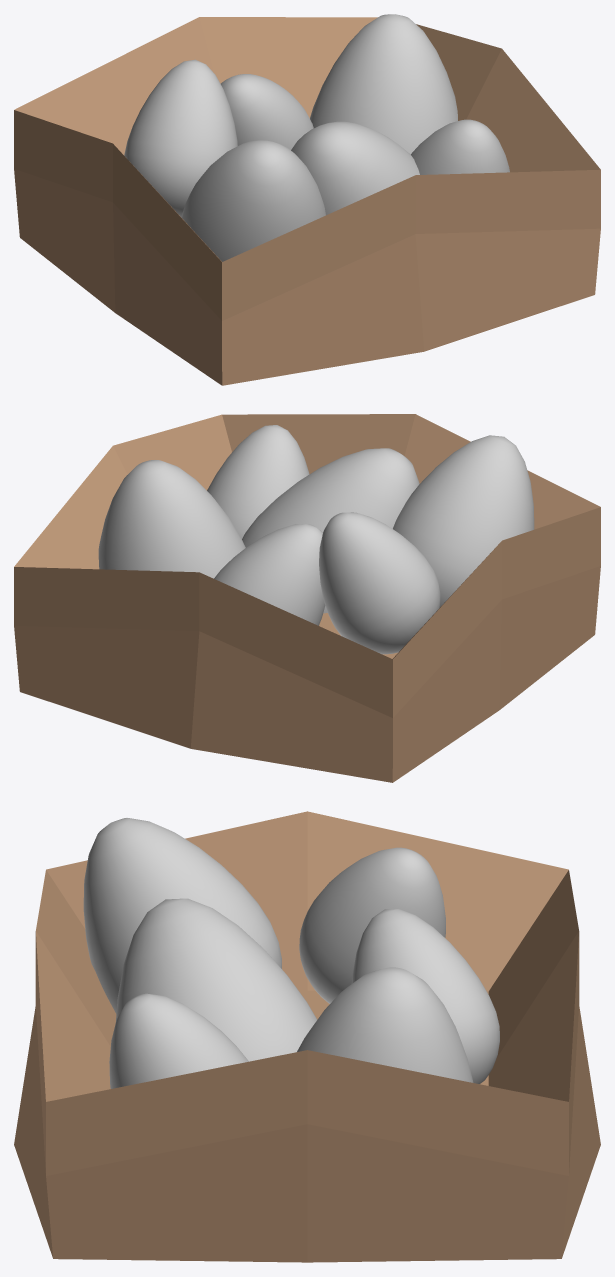
File: Egg.fbx
The picture shows the model from 3 angles, top to bottom: view 1: azimuth 30°, elevation 25°; view 2: azimuth 150°, elevation 25°; view 3: azimuth 270°, elevation 25°; orthographic projection. The views are drawn at different scales.
Visible parts, largest first — view 1: Cube; view 2: Cube; view 3: Cube.
Boxes of the visible parts, x1,y1,x2,y2 form: Cube: (14, 14, 600, 385); Cube: (14, 414, 600, 782); Cube: (14, 811, 600, 1262).
Size of the model in its own units: 97.07 by 53.75 by 101.
Materials: 1 (1 with a texture image).
